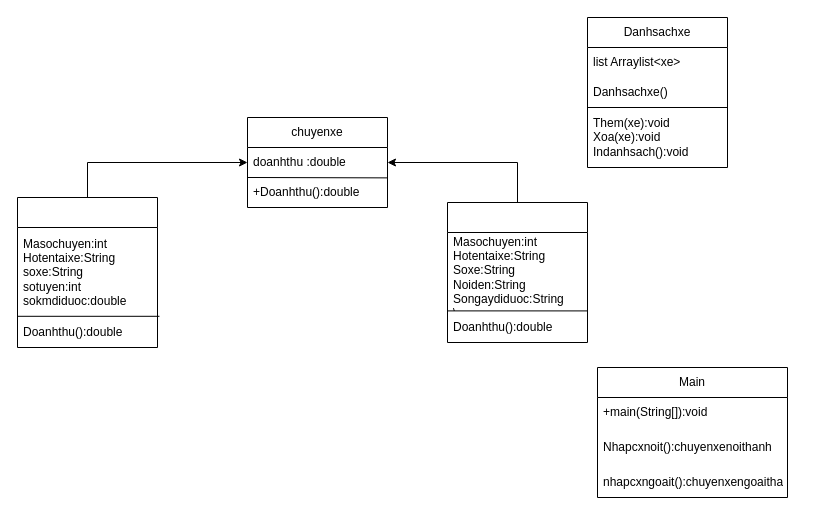
This 813x515 diagram has some shape labels left out. The shapes that lost their labels are listed below. From the top down, each one's box as (x1, y1, x2, y2) in pixels, then its label:
(16, 196, 158, 348): chuyenxenoithanh
(446, 202, 588, 342): chuyenxengoaithanh
